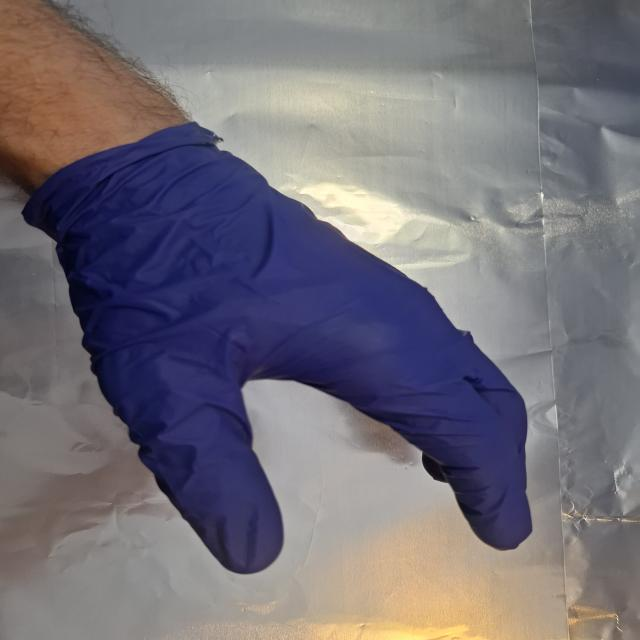glove_on: (53, 131, 535, 567)
